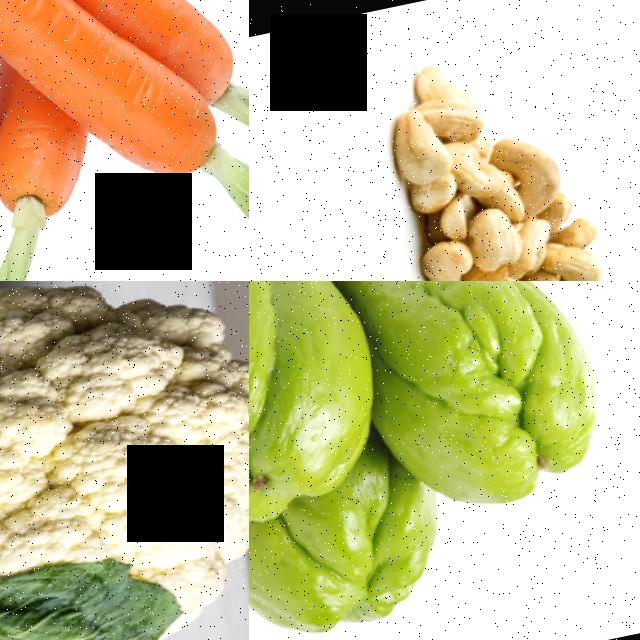carrot: (102, 78, 249, 251), (0, 91, 111, 257), (98, 0, 249, 75)
cashew: (360, 95, 458, 186), (484, 130, 578, 220), (453, 210, 541, 280), (418, 60, 496, 137), (445, 131, 515, 205), (539, 222, 624, 281)
cauliflower: (0, 281, 249, 640)
chayote: (339, 281, 635, 497), (249, 281, 376, 505)
